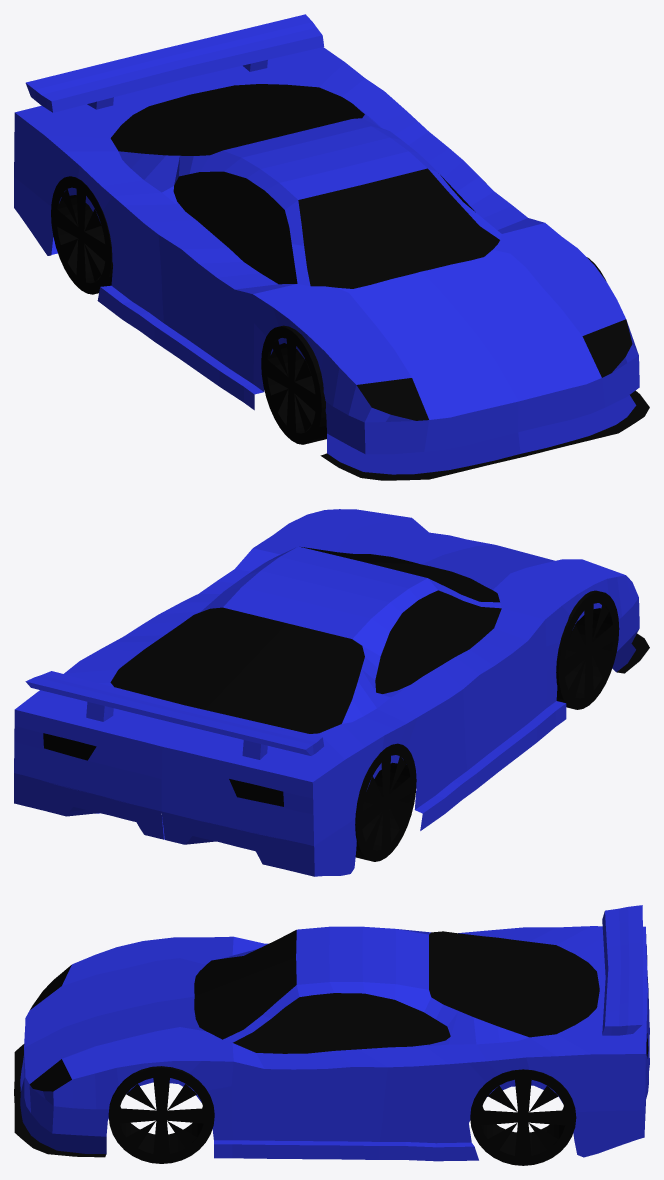
Rendered from sample2.glb.
3 views of the same model, one above another, from view 1: azimuth 30°, elevation 25°; view 2: azimuth 150°, elevation 25°; view 3: azimuth 270°, elevation 25° (orthographic). The views are drawn at different scales.
Parts seen in each view (by area): view 1: Plane, Plane.001, Cylinder.002, Cylinder.003; view 2: Plane, Plane.001, Cylinder.002, Cylinder.003; view 3: Plane, Cylinder.001, Cylinder, Plane.001.
Part boxes in pixels (x1,y1,x2,y2): Plane: (14,47,649,480); Plane.001: (25,14,324,112); Cylinder.002: (261,325,326,444); Cylinder.003: (51,176,112,294); Plane: (14,509,649,876); Plane.001: (25,671,323,759); Cylinder.002: (556,590,619,709); Cylinder.003: (355,743,416,861); Plane: (14,926,649,1161); Cylinder.001: (108,1066,214,1163); Cylinder: (470,1069,576,1165); Plane.001: (602,905,643,1035).
Size of the model in its own units: 1.52 by 0.7526 by 2.97.
